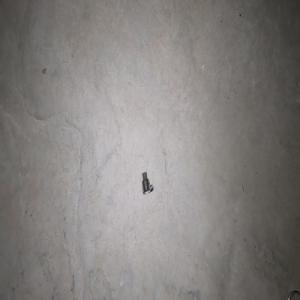MetalPart: (141, 171, 153, 194)
